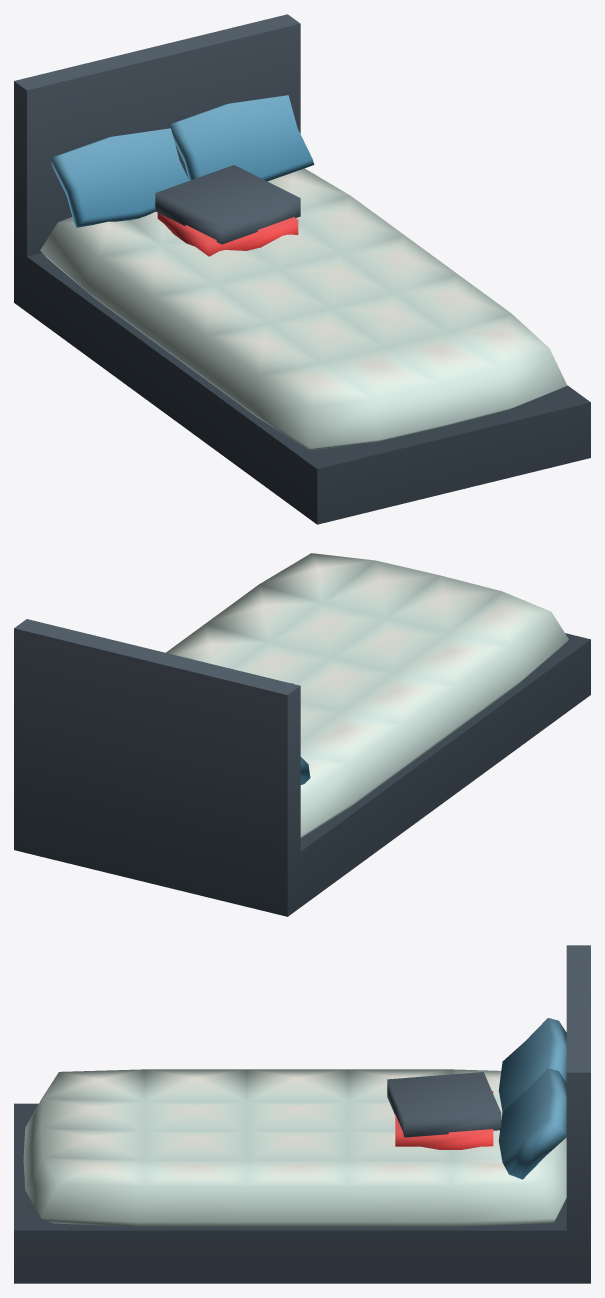
File: Prop_Bed.fbx
3 renders of one model, top to bottom at view 1: azimuth 30°, elevation 25°; view 2: azimuth 150°, elevation 25°; view 3: azimuth 270°, elevation 25°, orthographic. The views are drawn at different scales.
Parts seen in each view (by area): view 1: Prop_Bed; view 2: Prop_Bed; view 3: Prop_Bed.
Part boxes in pixels (x1,y1,x2,y2): Prop_Bed: (14, 14, 590, 524); Prop_Bed: (14, 553, 590, 916); Prop_Bed: (14, 945, 590, 1283).
Size of the model in its own units: 400 by 310 by 768.
